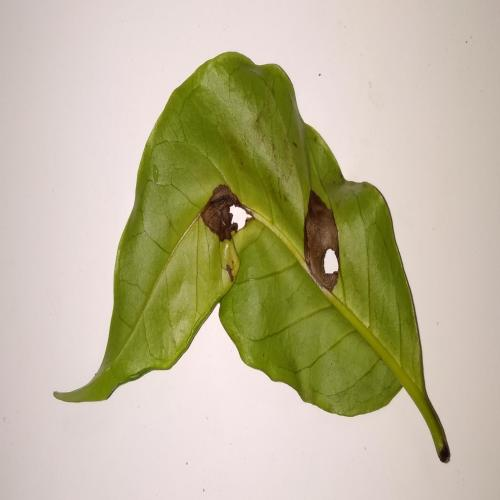miner: (196, 184, 256, 242)
